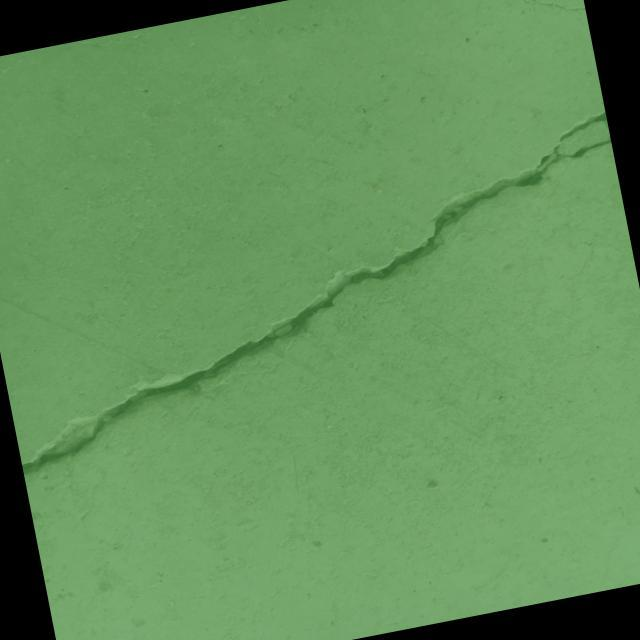crack: (0, 111, 640, 476), (446, 0, 585, 34)
